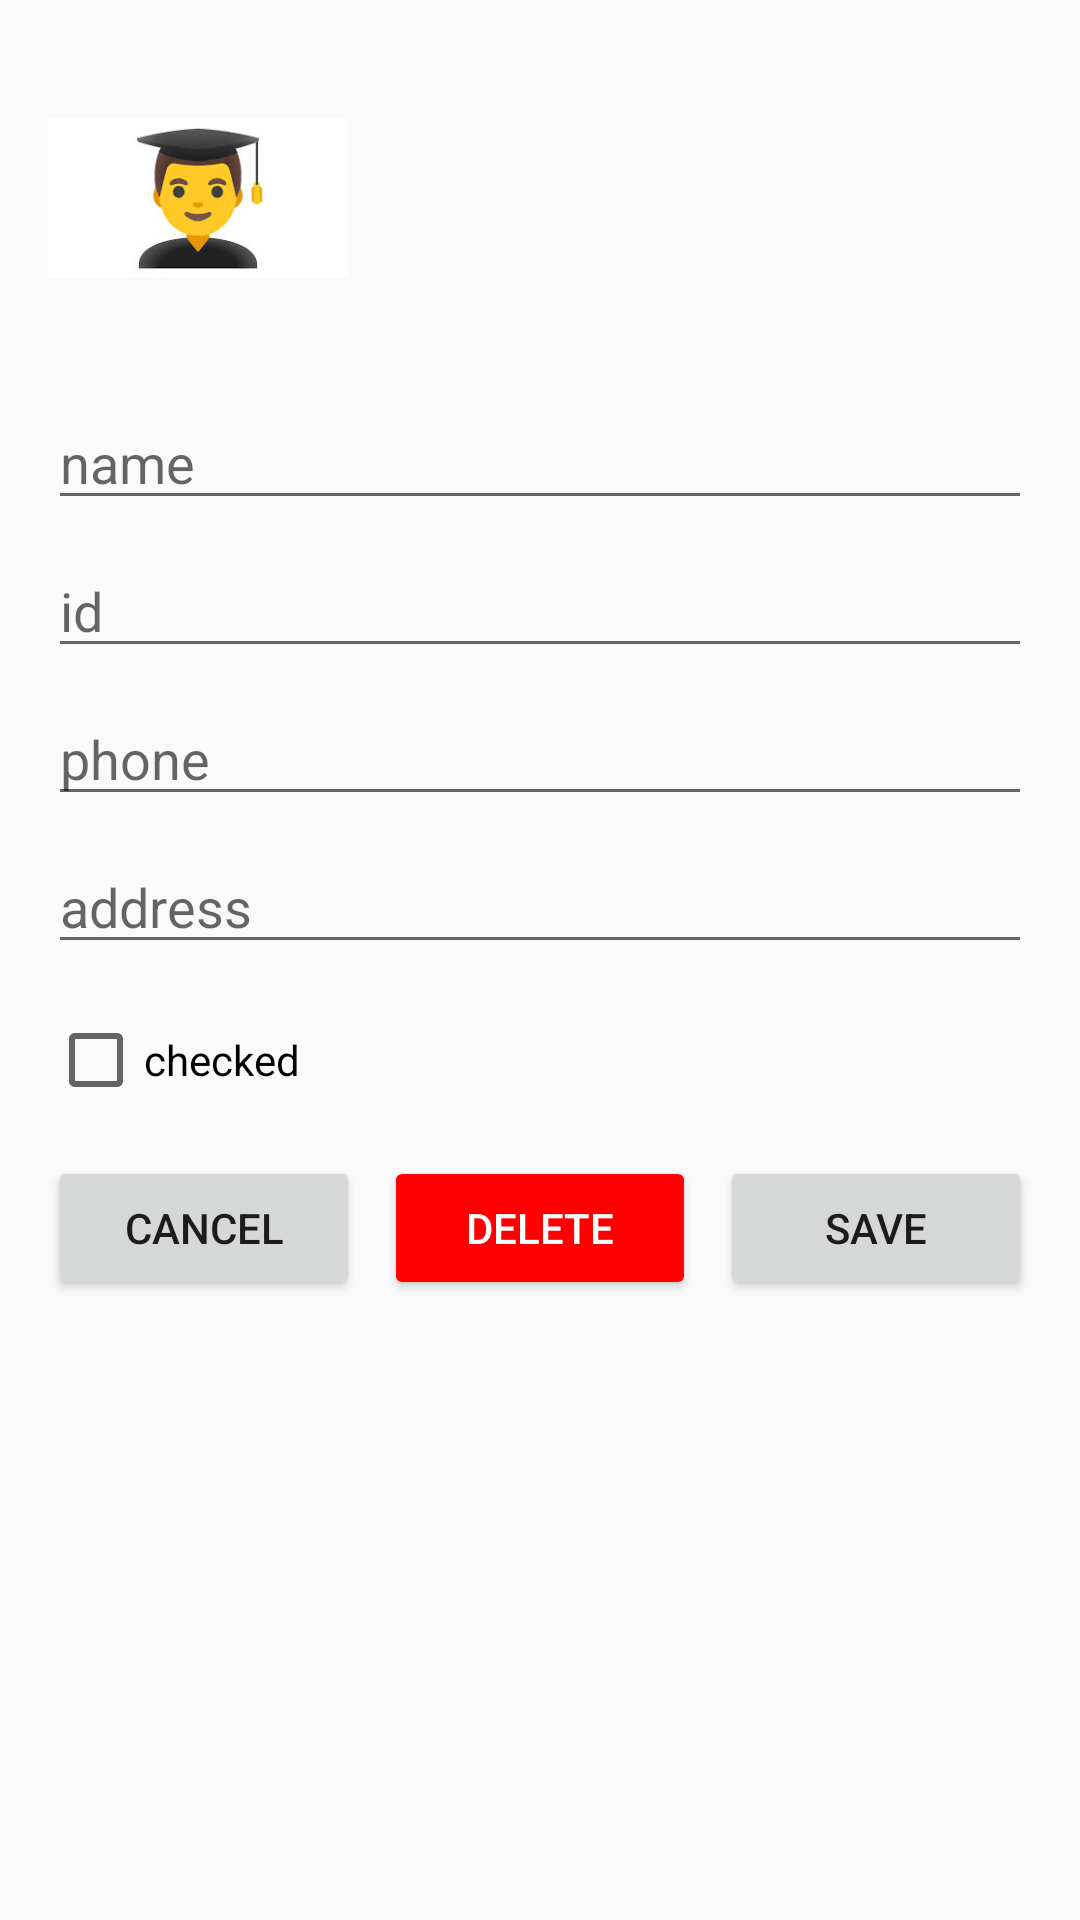

Where icons sit on this 1080 x 1920 app screen, as (x1, y1, x2, y2):
Profile Picture: (137, 128, 265, 269)
